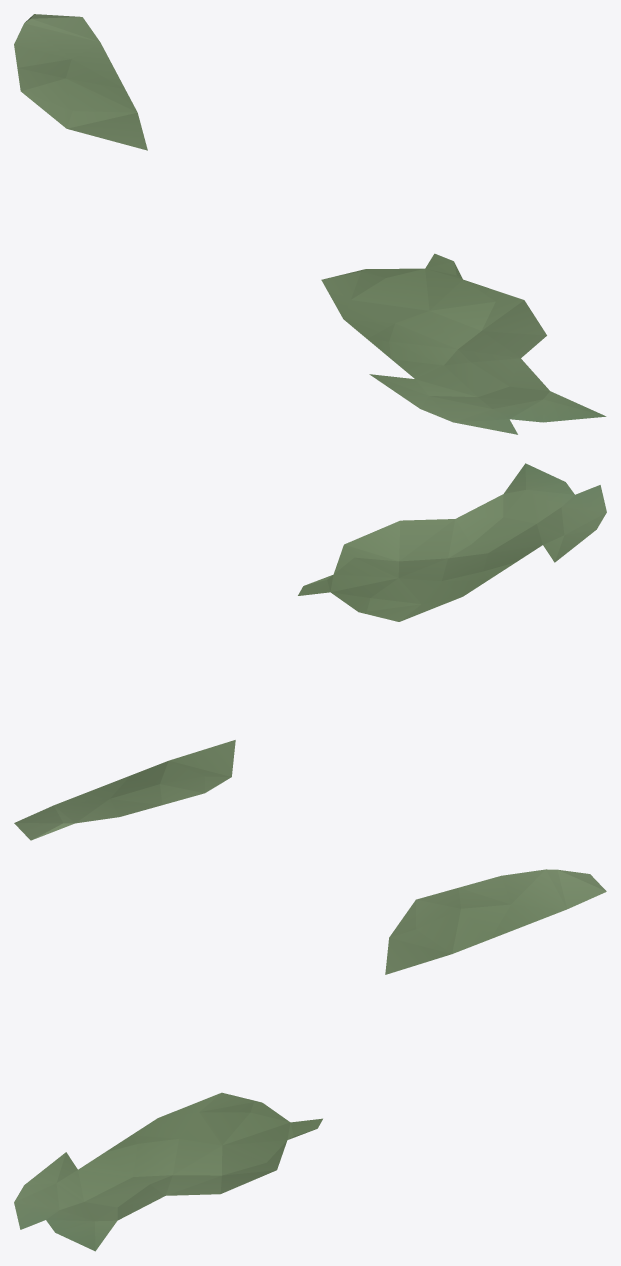
3 renders of one model, top to bottom at view 1: azimuth 30°, elevation 25°; view 2: azimuth 150°, elevation 25°; view 3: azimuth 330°, elevation 25°, orthographic. The views are drawn at different scales.
Parts seen in each view (by area): view 1: 台湾山林; view 2: 台湾山林; view 3: 台湾山林.
Part boxes in pixels (x1=…): 台湾山林: x1=14, y1=14, x2=606, y2=434; 台湾山林: x1=14, y1=463, x2=606, y2=840; 台湾山林: x1=14, y1=869, x2=606, y2=1251.
Bounding box in the file's own units: 2.37 × 0.2823 × 11.84.
